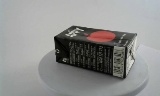appy: (49, 25, 129, 79)
